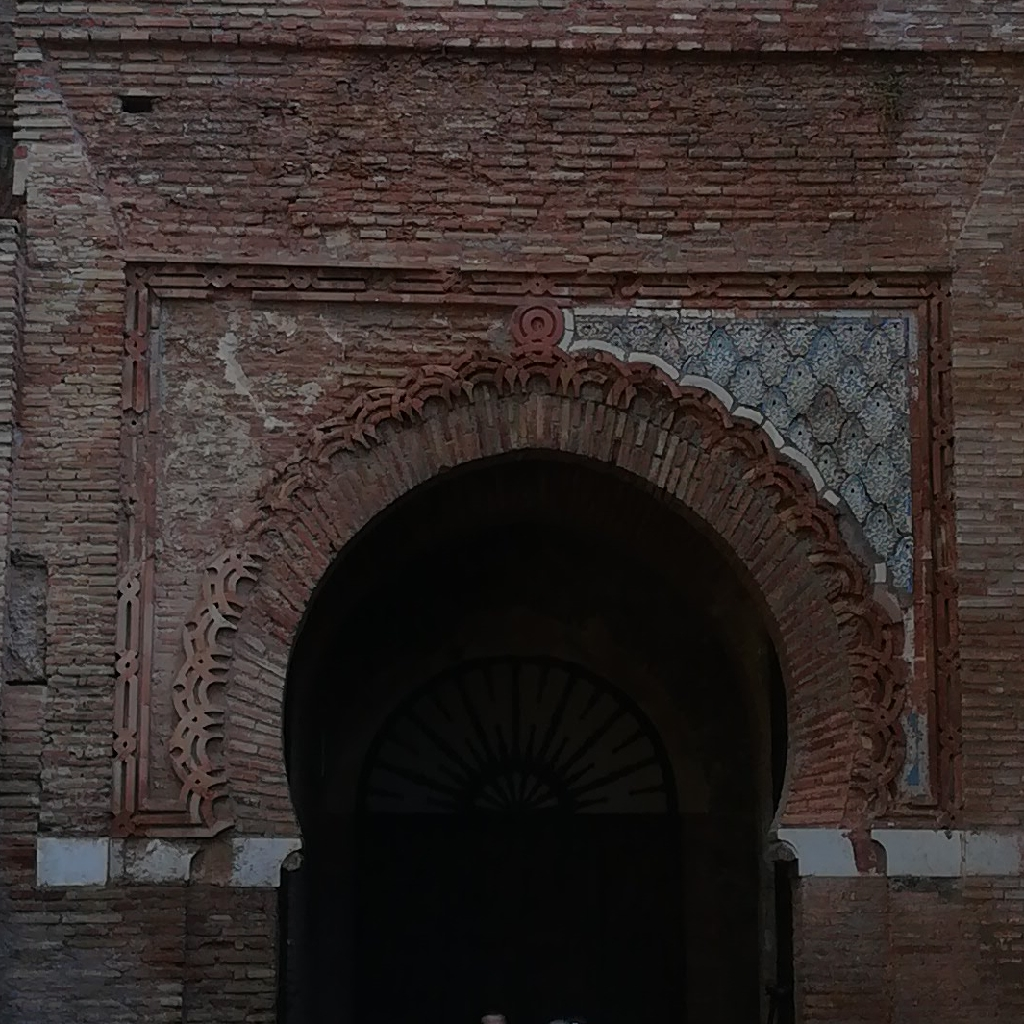arco-herradura: (257, 419, 827, 902)
